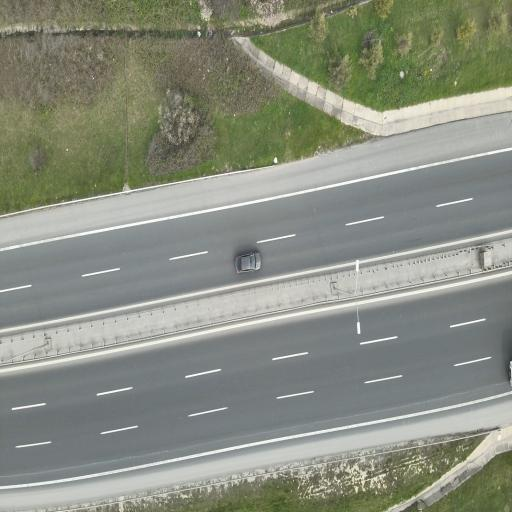car: (235, 251, 261, 272), (510, 360, 511, 384)
